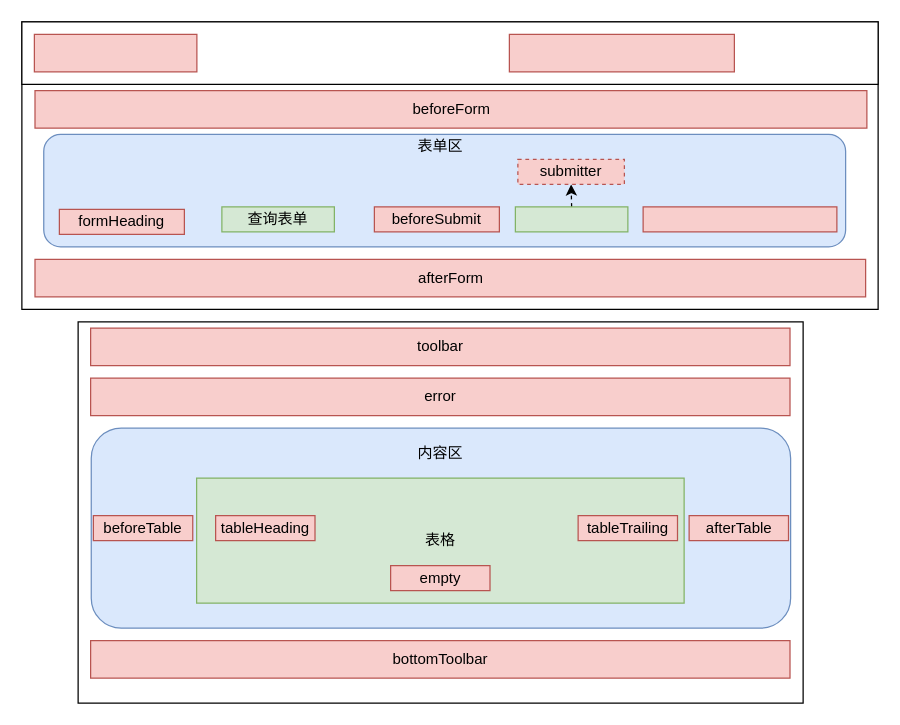
The diagram is 900 pixels wide and 725 high, and some of its shapes have lost their labels. Here are the shapes that lost their labels. From the top down, the centre of each, then its label:
At point 115,52: "title".
At point 621,52: "navBar".
At point 571,219: "提交按钮".
At point 739,219: "formTrailing/afterSubmit".
